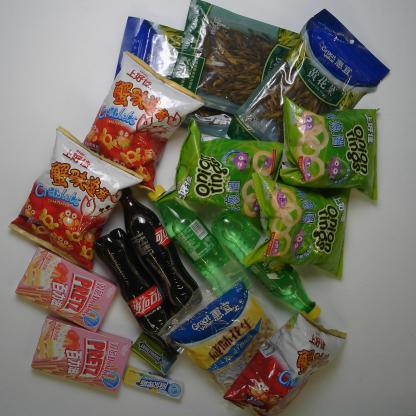Candy: (119, 363, 187, 405)
Dessert: (13, 243, 122, 335), (29, 312, 132, 395)
Dried Food: (225, 6, 392, 146), (168, 0, 302, 128), (113, 12, 186, 86)
Dried Fruit: (157, 257, 280, 398)
Drink: (209, 207, 324, 322), (145, 184, 252, 302), (92, 226, 184, 360), (115, 183, 203, 315)
Gum: (128, 327, 182, 377)
Puffed Food: (5, 123, 147, 274), (82, 49, 206, 194), (153, 115, 285, 219), (222, 309, 349, 416), (240, 170, 356, 280), (276, 92, 387, 204)
